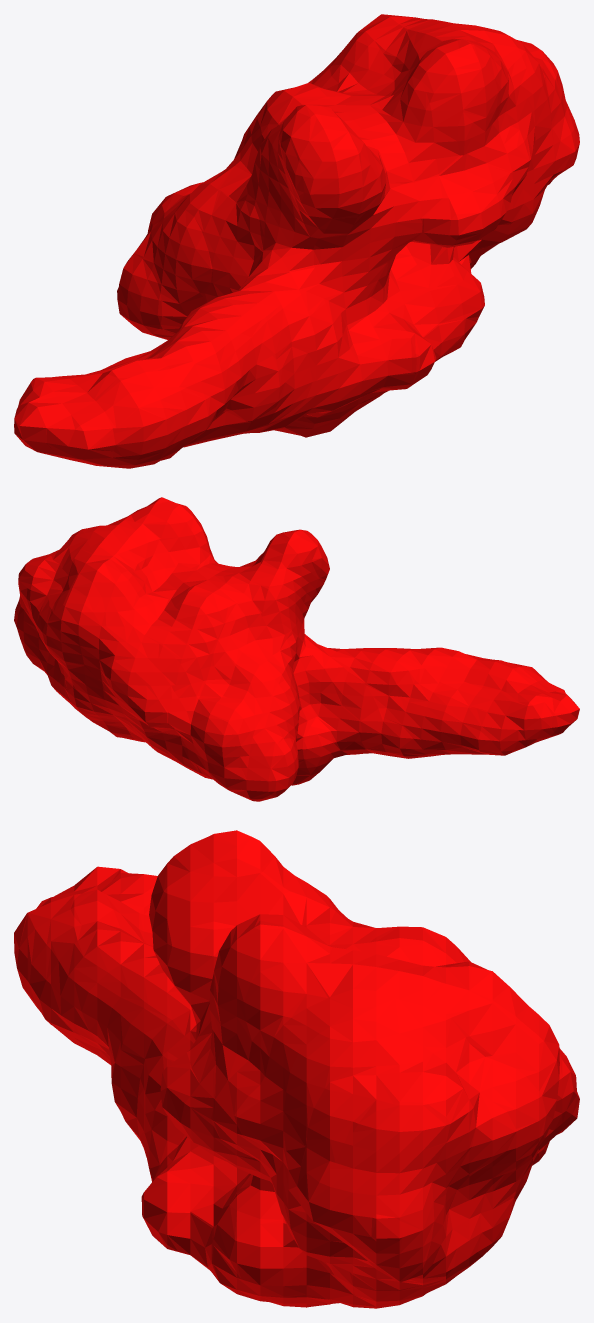
Rendered from serS_coarse.dae.
3 renders of one model, top to bottom at view 1: azimuth 30°, elevation 25°; view 2: azimuth 150°, elevation 25°; view 3: azimuth 270°, elevation 25°, orthographic. The views are drawn at different scales.
Visible parts, largest first — view 1: serS; view 2: serS; view 3: serS.
Boxes of the visible parts, <box> form: serS: <box>14,14,579,468</box>; serS: <box>14,497,579,801</box>; serS: <box>14,830,579,1308</box>.
Bounding box in the file's own units: 113 × 56.61 × 63.83.
